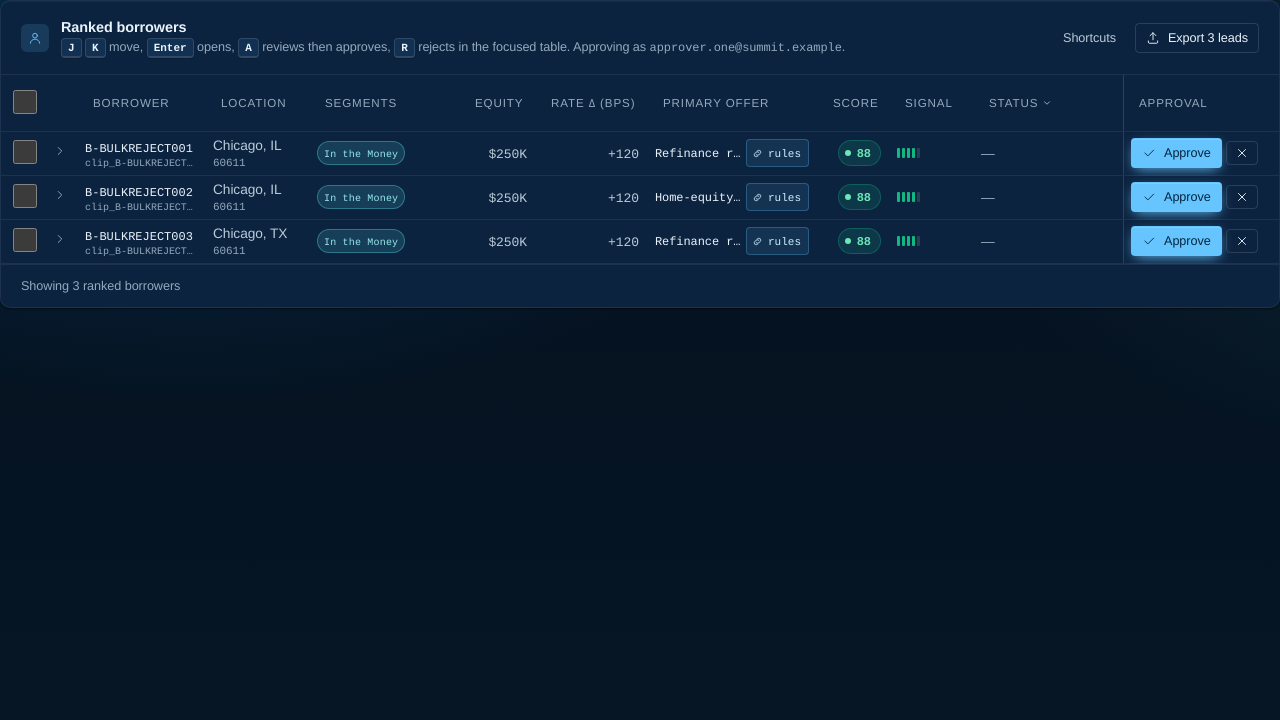
Test case: LeadTable bulk Reject run › opening the reject gate closes the approve gate, and back
This screenshot has width=1280, height=720.
Click the checkbox named "Select lead B-BULKREJECT001": (25,152) top-left (13, 140), bottom-right (37, 164)
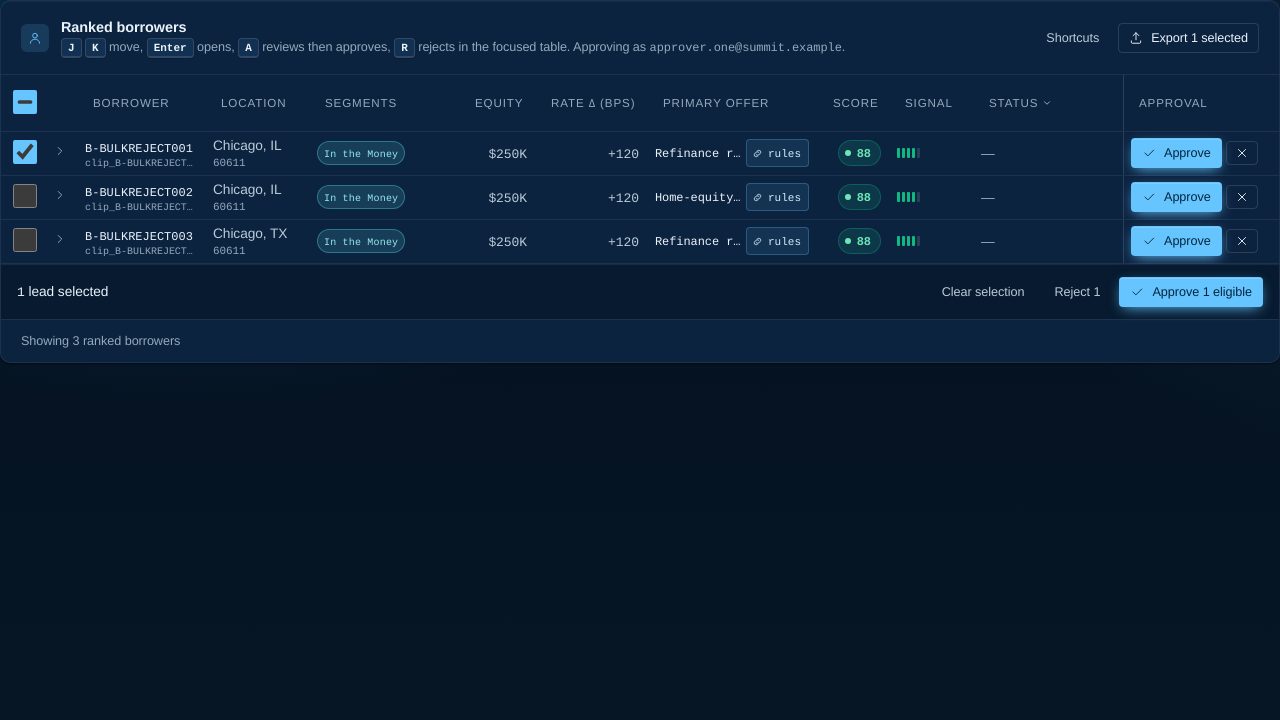
Click the checkbox named "Select lead B-BULKREJECT002": (25,196) top-left (13, 184), bottom-right (37, 208)
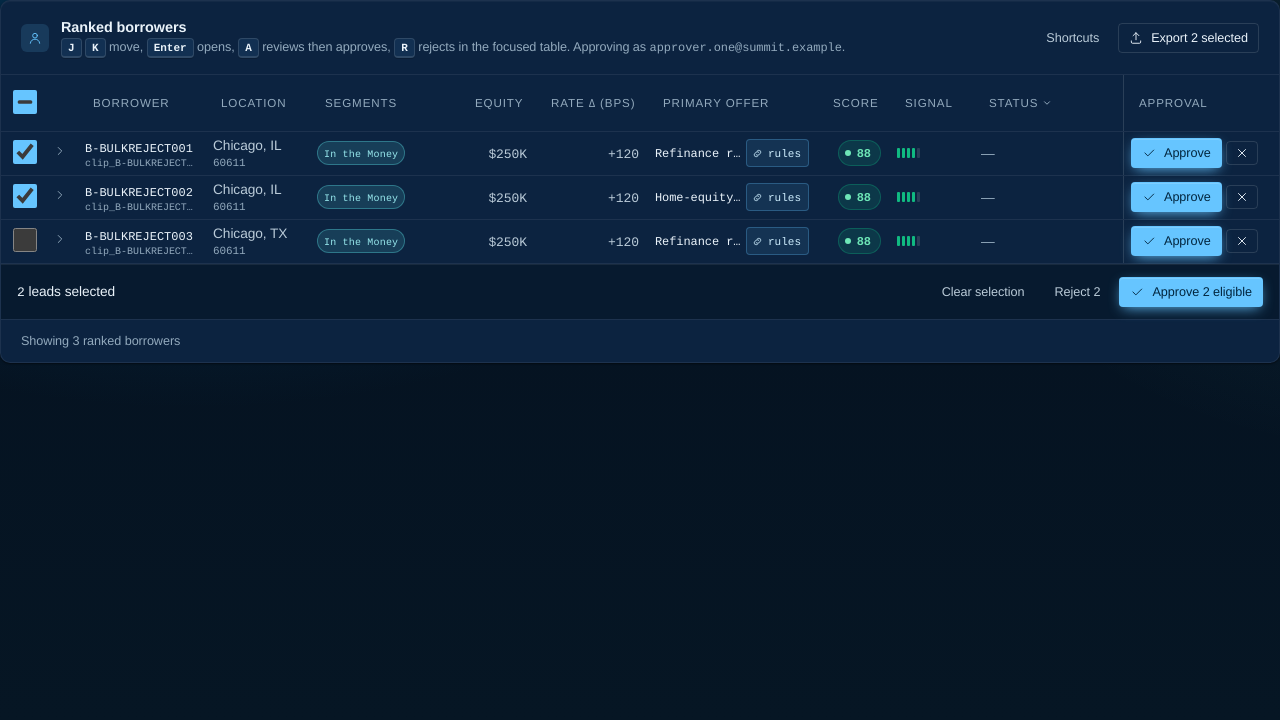
Click the checkbox named "Select lead B-BULKREJECT003": (25,240) top-left (13, 228), bottom-right (37, 252)
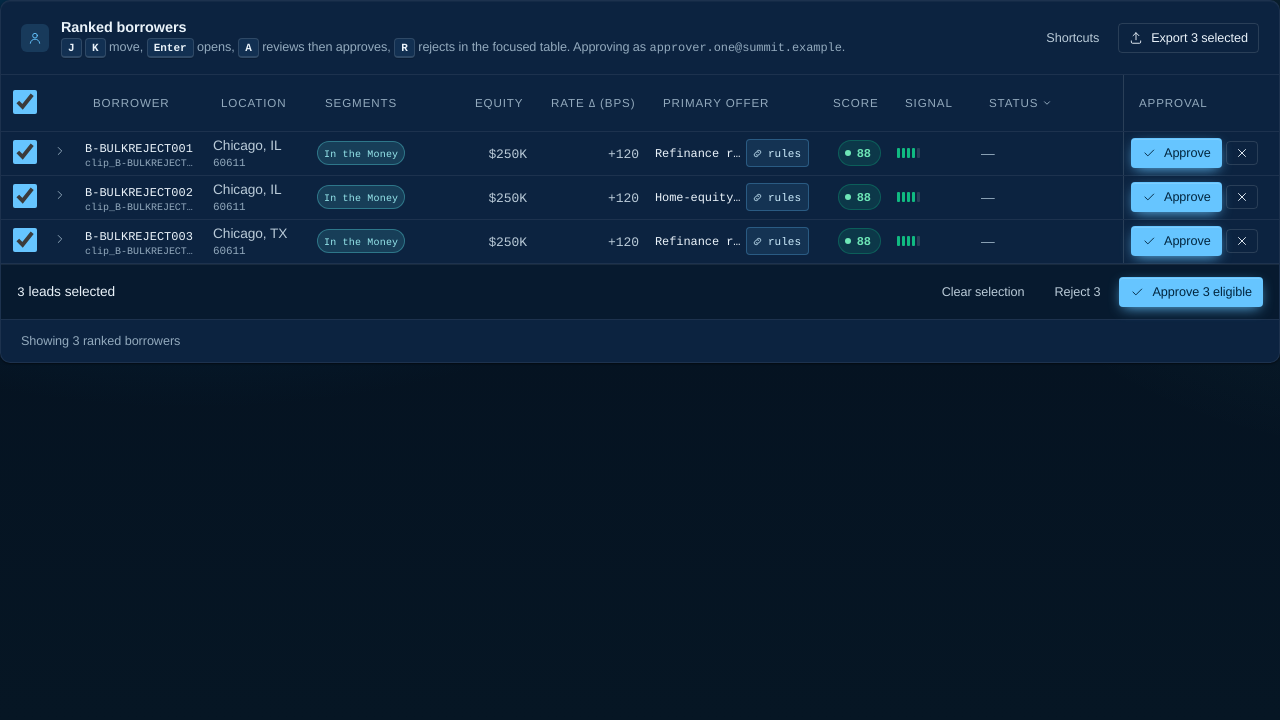
Click the button with test id "lead-bulk-approve": (1191,292) top-left (1120, 277), bottom-right (1263, 307)
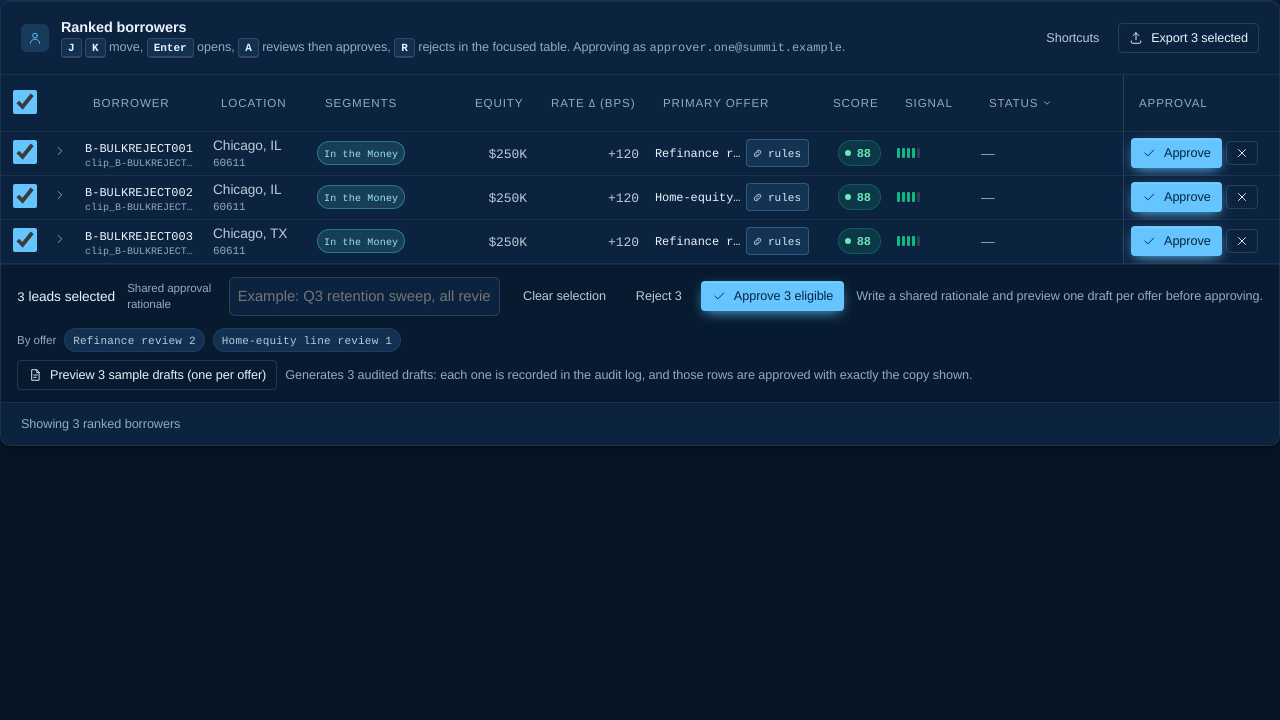
Check: the text "Shared approval rationale" is shown, box top-left (127, 277), bottom-right (500, 316)
Click the button with test id "lead-bulk-reject": (659,296) top-left (625, 281), bottom-right (693, 311)
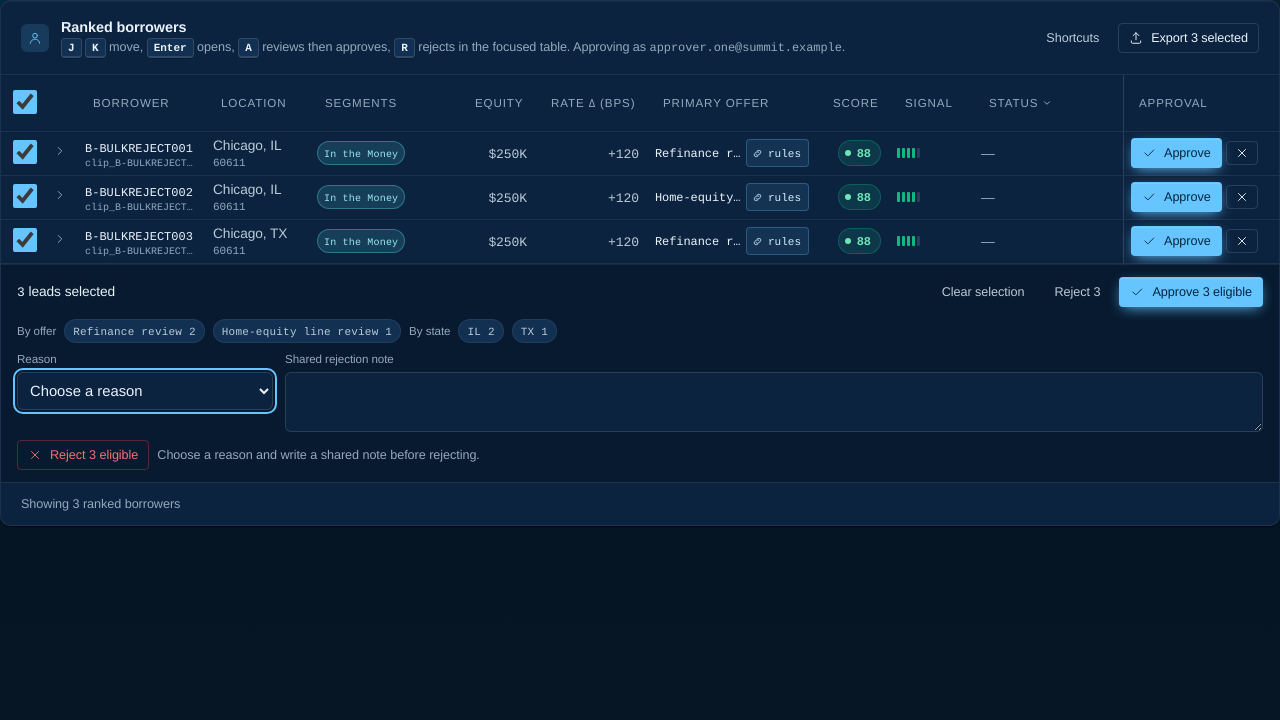
Check: the form with test id "lead-bulk-reject-gate" is shown, box top-left (17, 319), bottom-right (1263, 470)
Check: the label with class "bulk-actions__rationale" is gone
Click the button with test id "lead-bulk-approve": (1191,292) top-left (1120, 277), bottom-right (1263, 307)
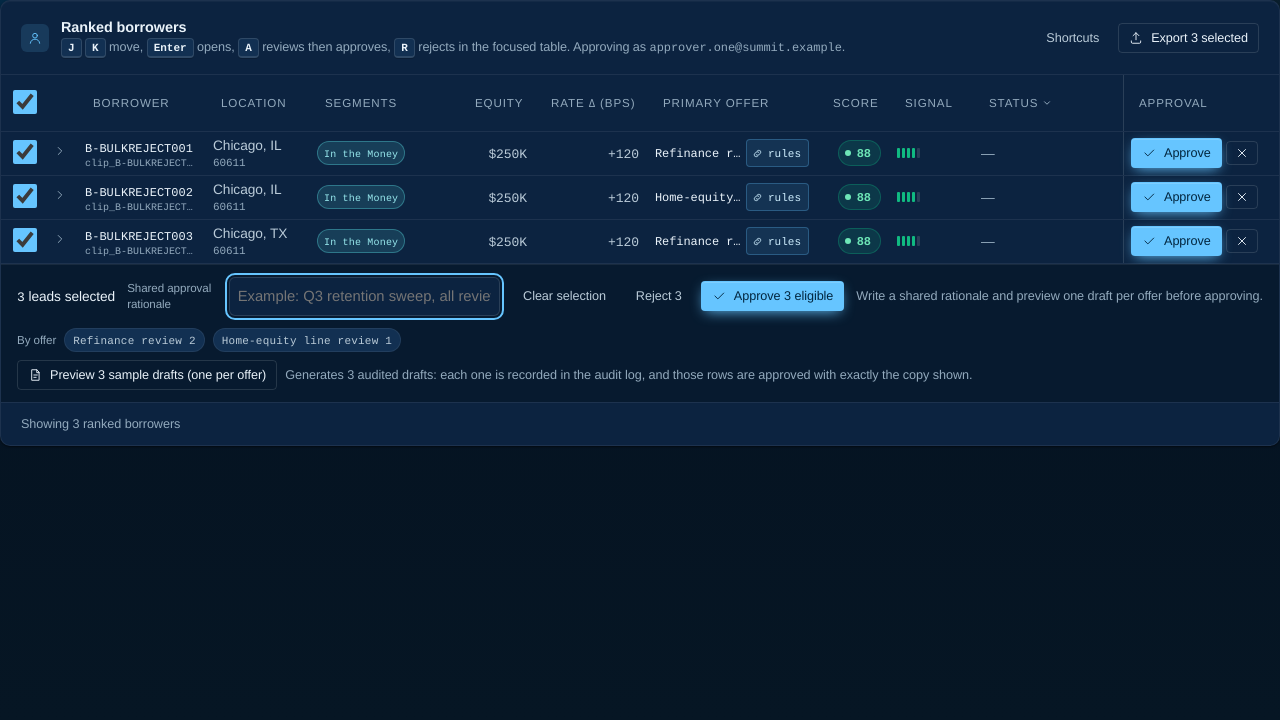
Check: the text "Shared approval rationale" is shown, box top-left (127, 277), bottom-right (500, 316)
Check: the form with test id "lead-bulk-reject-gate" is gone
